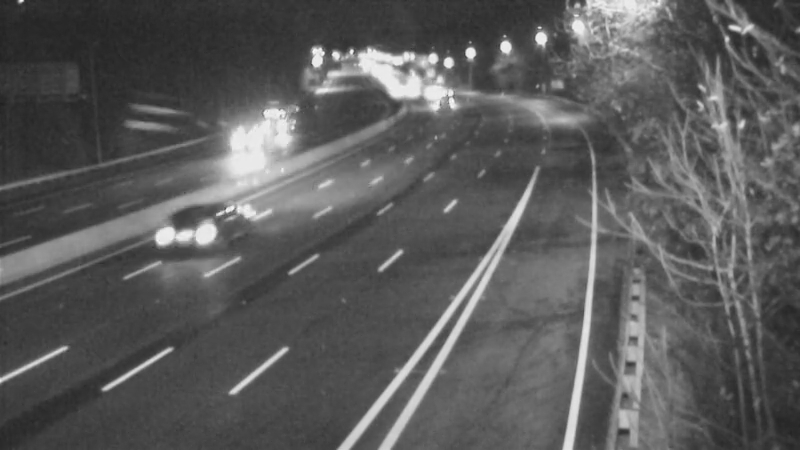vehicle: (149, 185, 229, 265), (374, 66, 424, 116), (420, 75, 470, 125), (213, 119, 263, 169), (253, 92, 303, 142)
